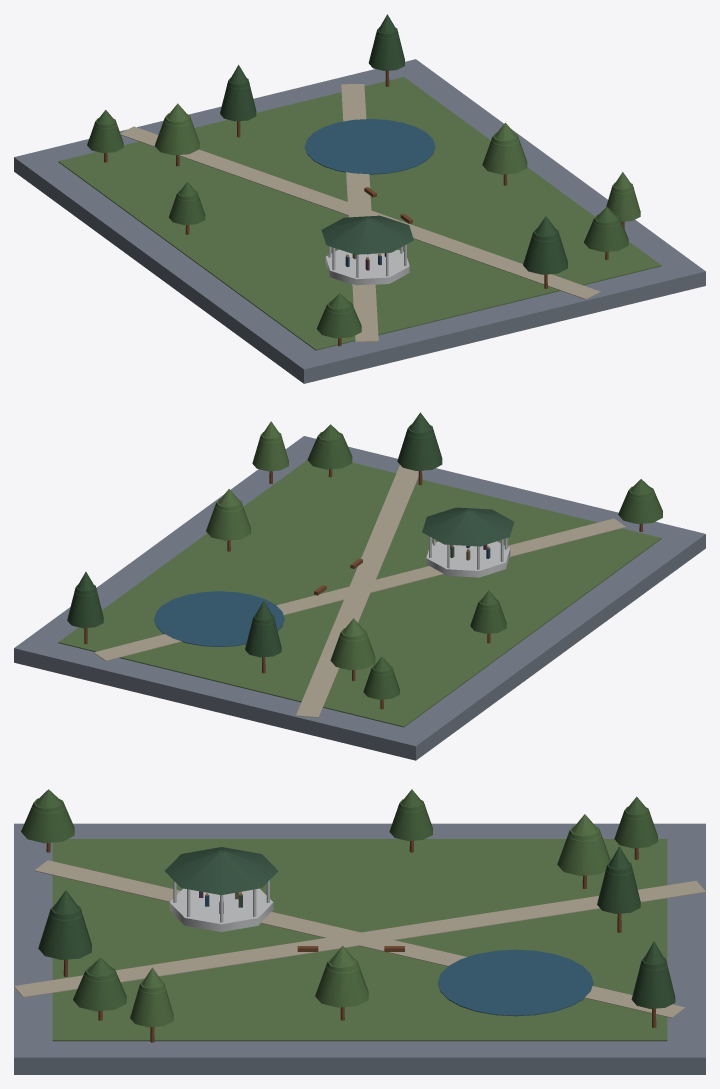
File: park.glb
The picture shows the model from 3 angles, top to bottom: view 1: azimuth 30°, elevation 25°; view 2: azimuth 150°, elevation 25°; view 3: azimuth 270°, elevation 25°; orthographic projection. The views are drawn at different scales.
Visible parts, largest first — view 1: park; view 2: park; view 3: park.
Boxes of the visible parts, <box> form: park: <box>14,14,705,383</box>; park: <box>14,412,705,760</box>; park: <box>14,789,705,1074</box>.
Size of the model in its own units: 64 by 13.35 by 80.
